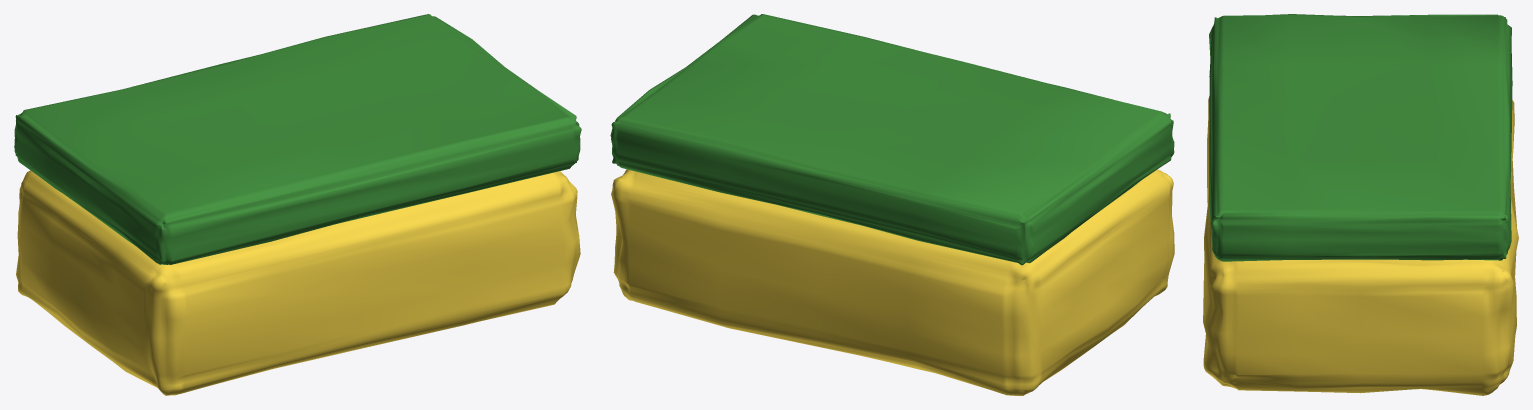
The model's file is props-sponge.glb.
3 views of the same model, side by side, from view 1: azimuth 30°, elevation 25°; view 2: azimuth 150°, elevation 25°; view 3: azimuth 270°, elevation 25° (orthographic).
Parts seen in each view (by area): view 1: Sponge__Scrub, Sponge__Foam; view 2: Sponge__Scrub, Sponge__Foam; view 3: Sponge__Scrub, Sponge__Foam.
Part boxes in pixels (left/top/right/bottom): Sponge__Scrub: left=14, top=14, right=581, bottom=264; Sponge__Foam: left=16, top=170, right=580, bottom=395; Sponge__Scrub: left=610, top=14, right=1174, bottom=265; Sponge__Foam: left=611, top=169, right=1174, bottom=395; Sponge__Scrub: left=1209, top=14, right=1512, bottom=261; Sponge__Foam: left=1203, top=96, right=1518, bottom=395.
Size of the model in its own units: 8.11 by 3.41 by 5.18.
